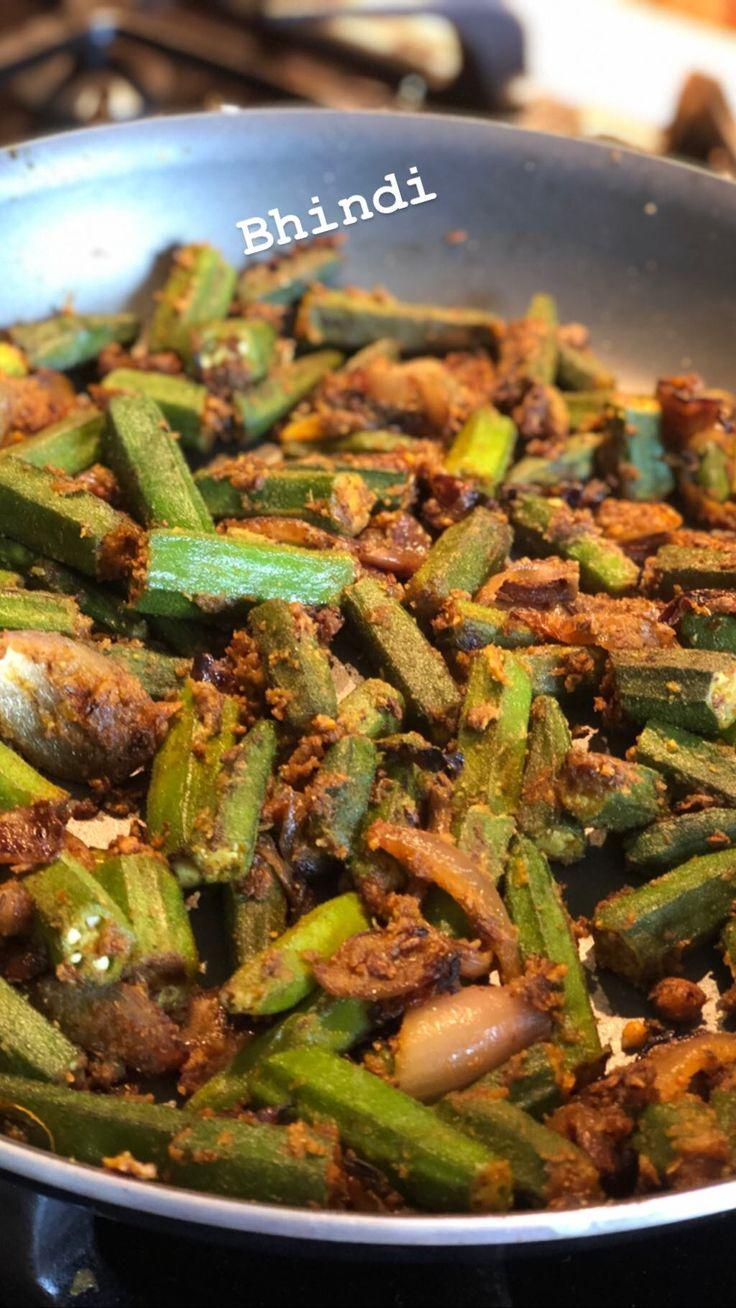bhindi: (10, 325, 736, 1153)
